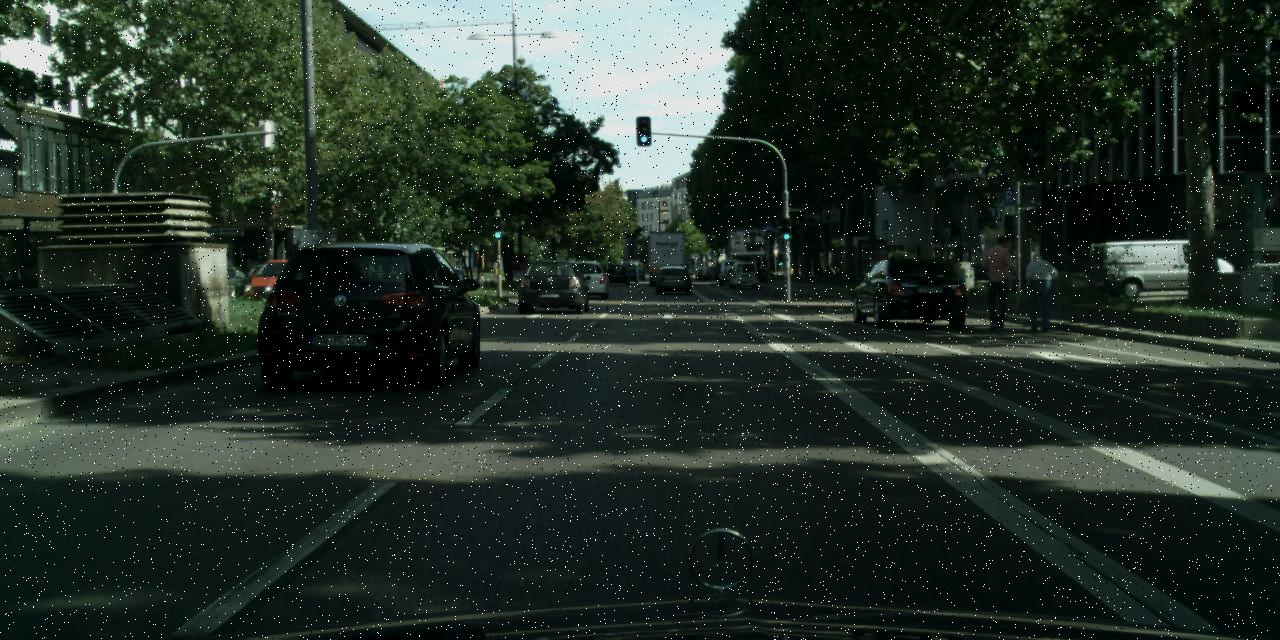ped: (980, 235, 1018, 329), (1022, 252, 1054, 332), (868, 254, 882, 291)
